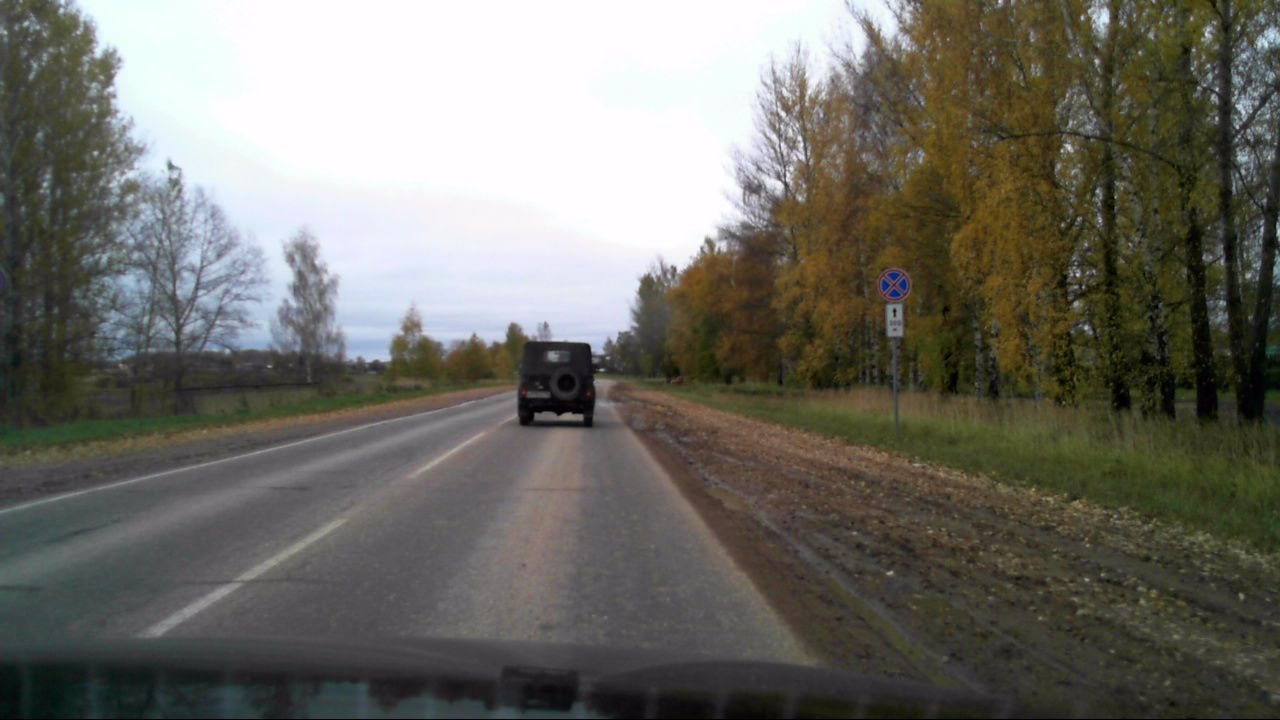No Parking: (878, 267, 911, 301)
